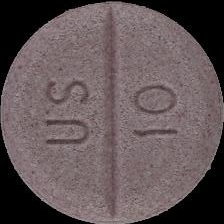0245-0213: (0, 0, 224, 224)
